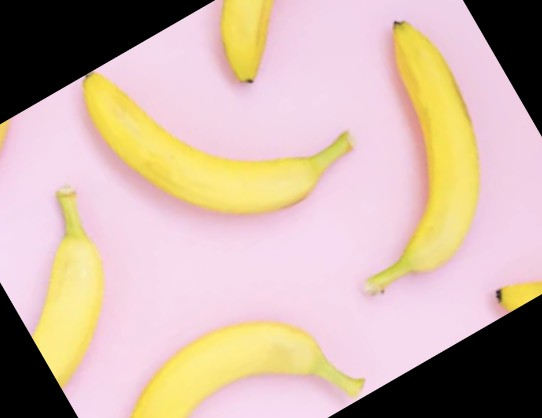fresh_banana: (81, 70, 355, 214), (366, 19, 479, 292), (132, 324, 366, 418), (32, 188, 105, 387)
